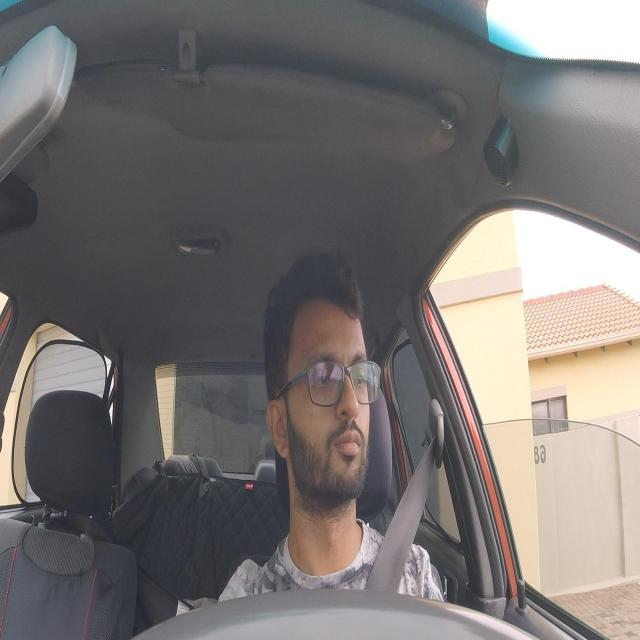open: (312, 352, 338, 402), (348, 351, 370, 402)
